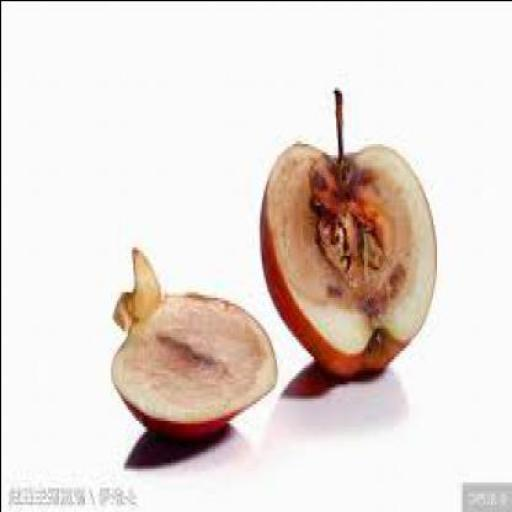biodegradable: (260, 84, 438, 375), (110, 246, 278, 440)
